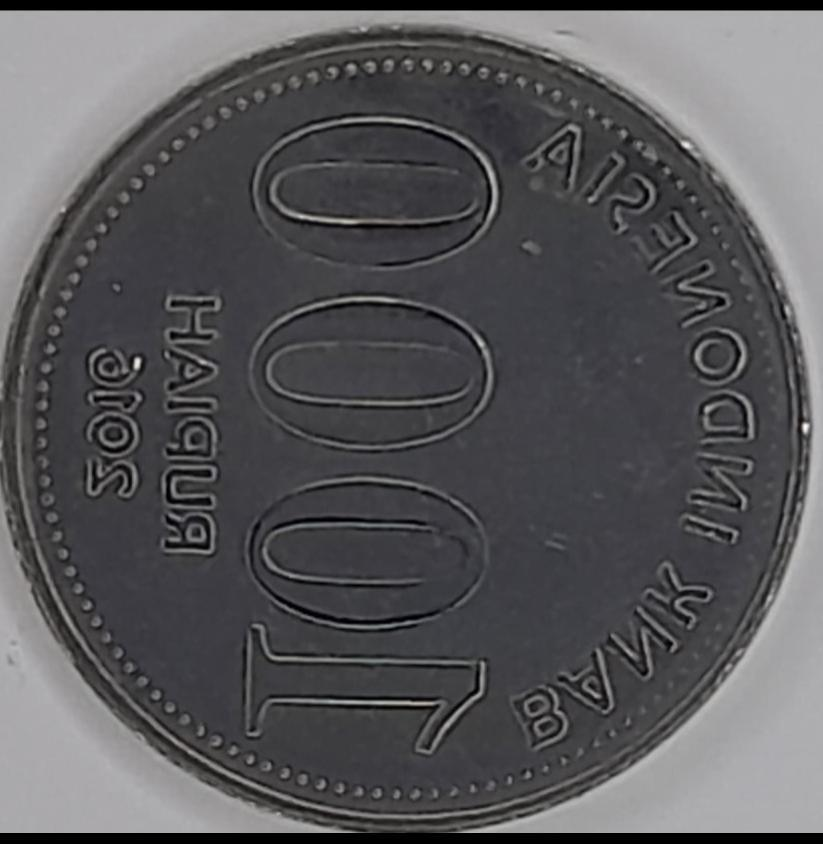coin_1000_e2016: (14, 17, 812, 844)
